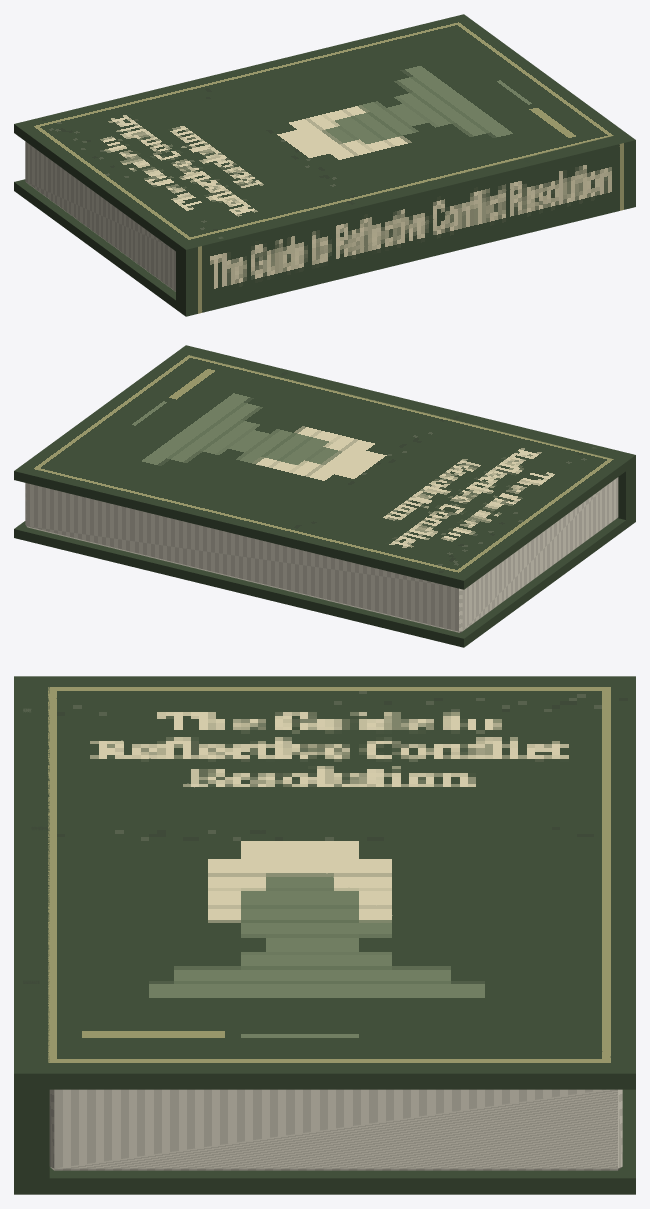
Rendered from book_nonf_hard_psych_grconres.glb.
3 renders of one model, top to bottom at view 1: azimuth 30°, elevation 25°; view 2: azimuth 150°, elevation 25°; view 3: azimuth 270°, elevation 25°, orthographic. The views are drawn at different scales.
Parts seen in each view (by area): view 1: block_front, block_spine, block_pages, block_back; view 2: block_front, block_pages, block_back, block_spine; view 3: block_front, block_pages, block_back, block_spine.
Boxes of the visible parts, box(x1,y1,x2,y2) form: block_front: box(14, 14, 625, 256); block_spine: box(176, 133, 635, 316); block_pages: box(25, 141, 175, 291); block_back: box(14, 179, 183, 314); block_front: box(14, 347, 633, 589); block_pages: box(25, 477, 618, 632); block_back: box(14, 515, 633, 647); block_spine: box(178, 345, 635, 523); block_front: box(23, 676, 635, 1089); block_pages: box(49, 1089, 622, 1170); block_back: box(23, 1089, 635, 1194); block_spine: box(14, 676, 49, 1194).
Size of the model in its own units: 0.2255 by 0.032 by 0.1493.
Materials: 1 (1 with a texture image).
